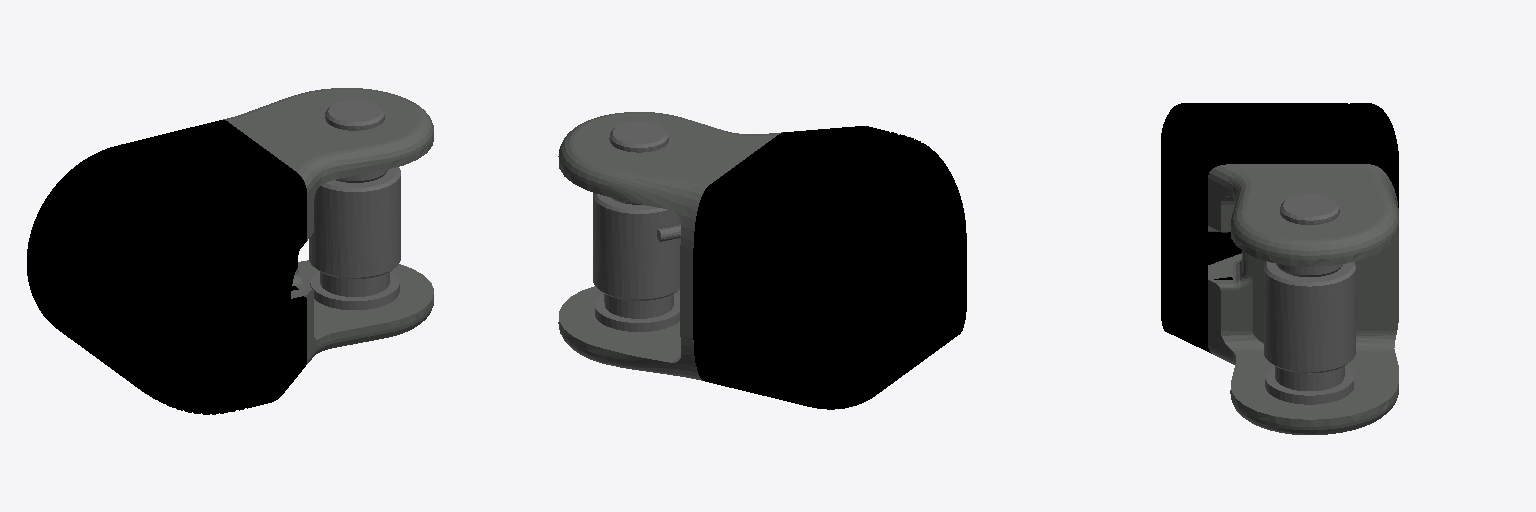
The model's file is th_distal.obj.
The picture shows the model from 3 angles: view 1: azimuth 30°, elevation 25°; view 2: azimuth 150°, elevation 25°; view 3: azimuth 270°, elevation 25°; orthographic projection.
Visible parts, largest first — view 1: thumb_distal_tip_SIH_right.042, thumb_distal_base_SIH_right.043, thumb_distal_spring_axis_SIH_right.040; view 2: thumb_distal_tip_SIH_right.042, thumb_distal_base_SIH_right.043, thumb_distal_spring_axis_SIH_right.040; view 3: thumb_distal_base_SIH_right.043, thumb_distal_tip_SIH_right.042, thumb_distal_spring_axis_SIH_right.040.
Part boxes in pixels (x1,y1,x2,y2): thumb_distal_tip_SIH_right.042: (27, 120, 306, 414); thumb_distal_base_SIH_right.043: (223, 88, 433, 363); thumb_distal_spring_axis_SIH_right.040: (309, 100, 400, 309); thumb_distal_tip_SIH_right.042: (693, 126, 966, 409); thumb_distal_base_SIH_right.043: (558, 112, 782, 380); thumb_distal_spring_axis_SIH_right.040: (593, 122, 680, 331); thumb_distal_base_SIH_right.043: (1208, 164, 1398, 434); thumb_distal_tip_SIH_right.042: (1161, 103, 1398, 353); thumb_distal_spring_axis_SIH_right.040: (1264, 194, 1355, 404).
Bounding box in the file's own units: 42.5 × 23.6 × 24.